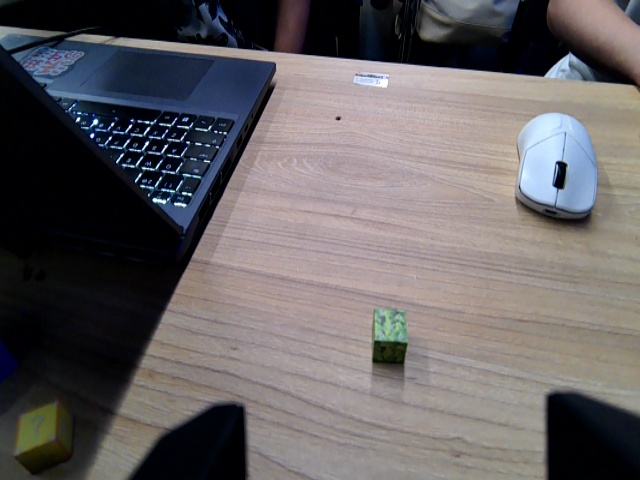grass: (369, 304, 410, 365)
